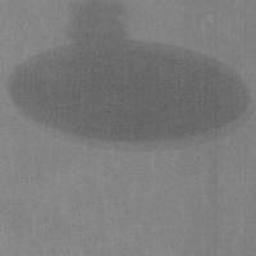Oil spot: (5, 0, 255, 154), (180, 0, 216, 12)
